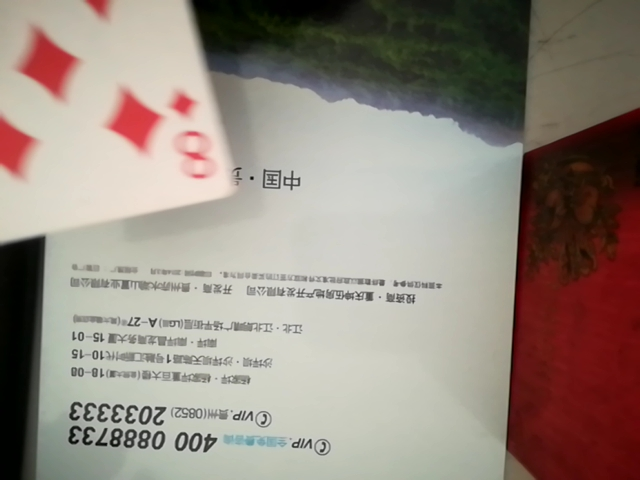fk 8: (0, 2, 237, 279)
